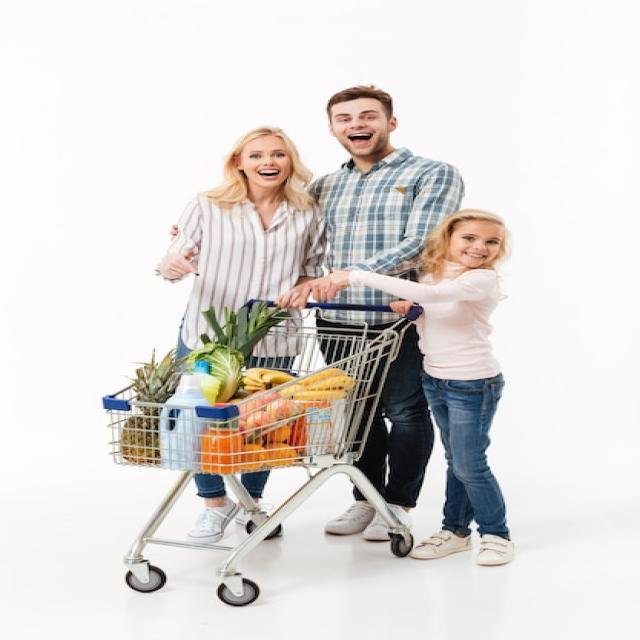Person: (302, 84, 463, 544), (155, 125, 327, 546), (329, 208, 513, 566)
